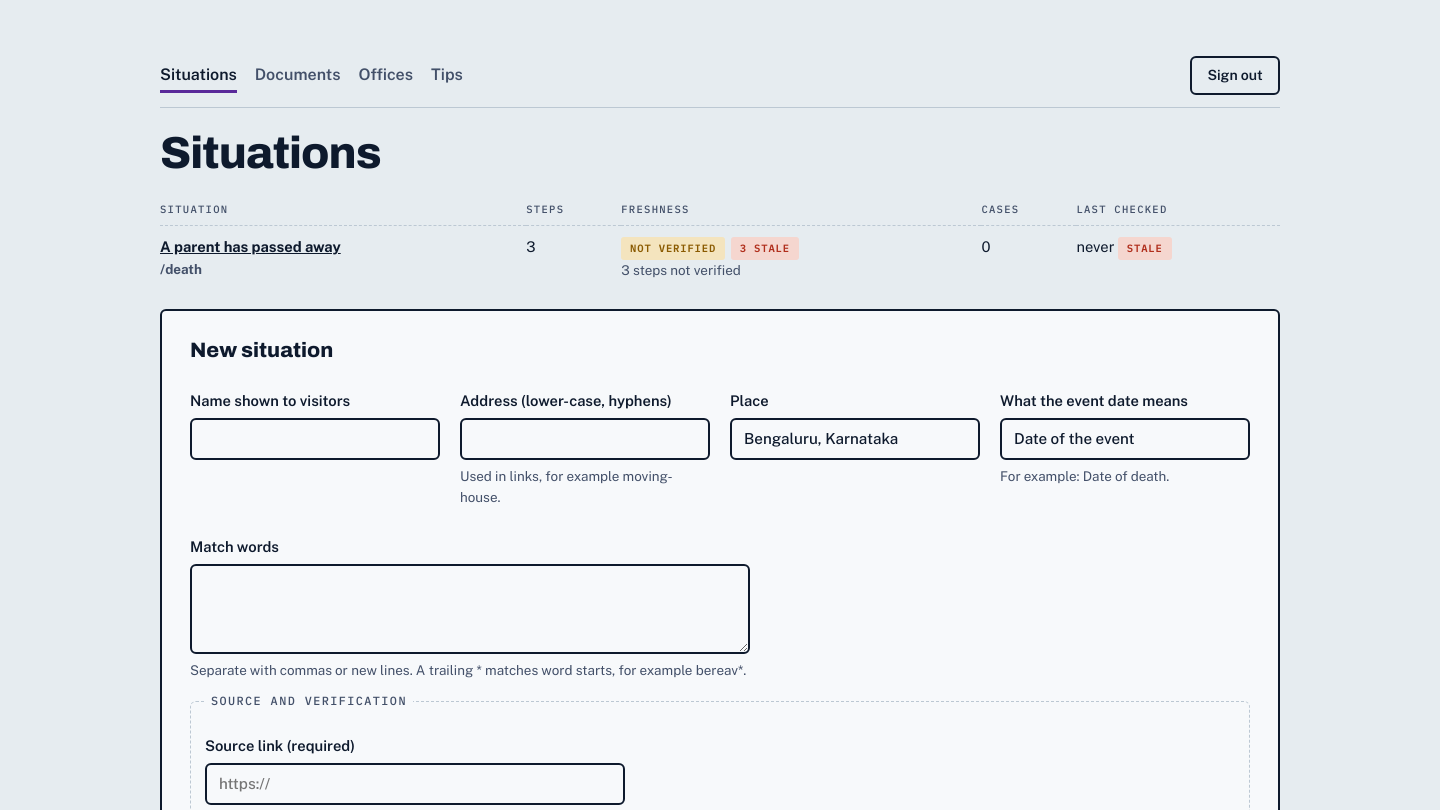
Admin: situations › shows validation problems field by field
Expected: the link "A parent has passed away" is shown, [160,238,341,255]
Type "X event" into the field labelled "Name shown to visitors" at x=315, y=439, box [190,418,440,460]
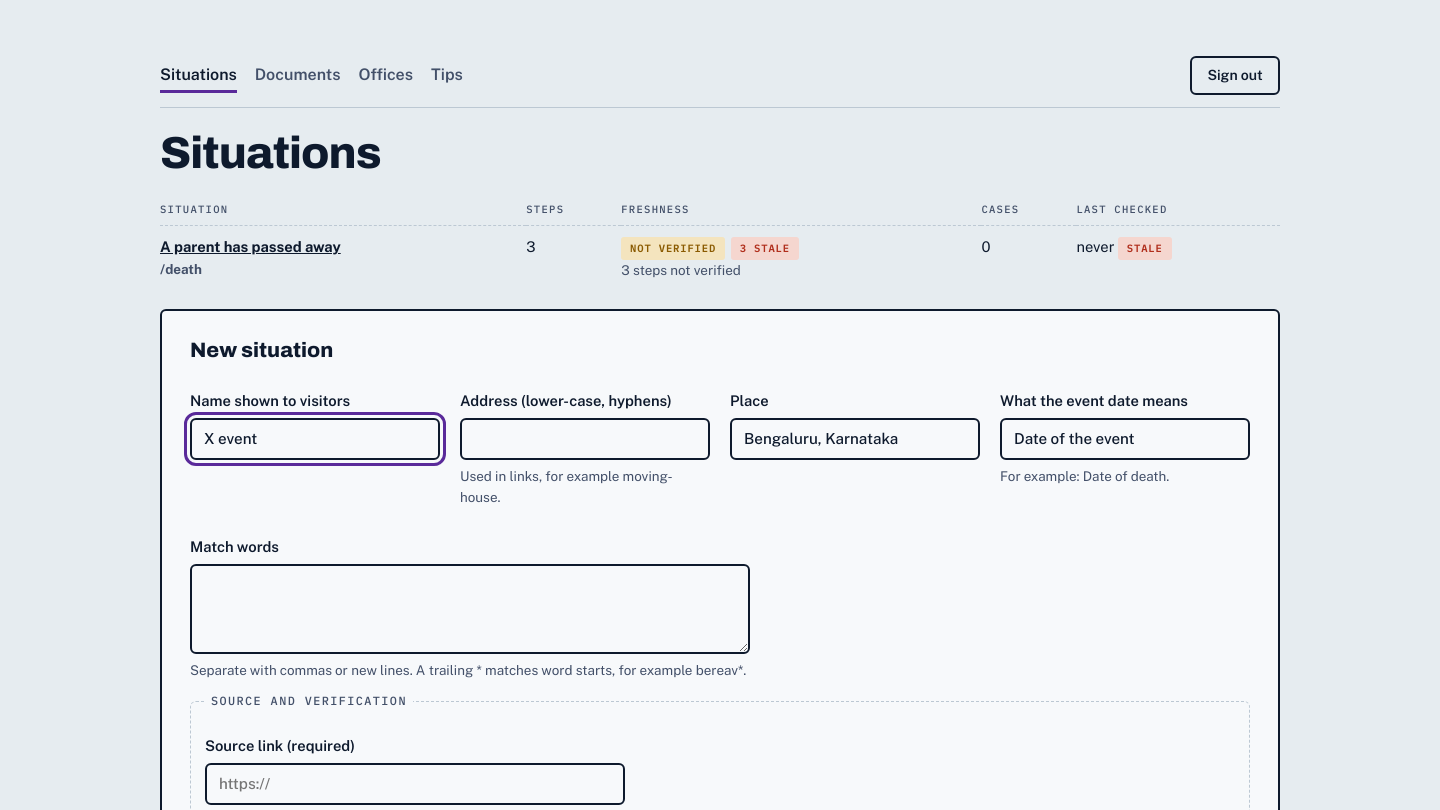
Type "x-event" into the field labelled "Address (lower-case, hyphens)" at x=585, y=439, box [460,418,710,460]
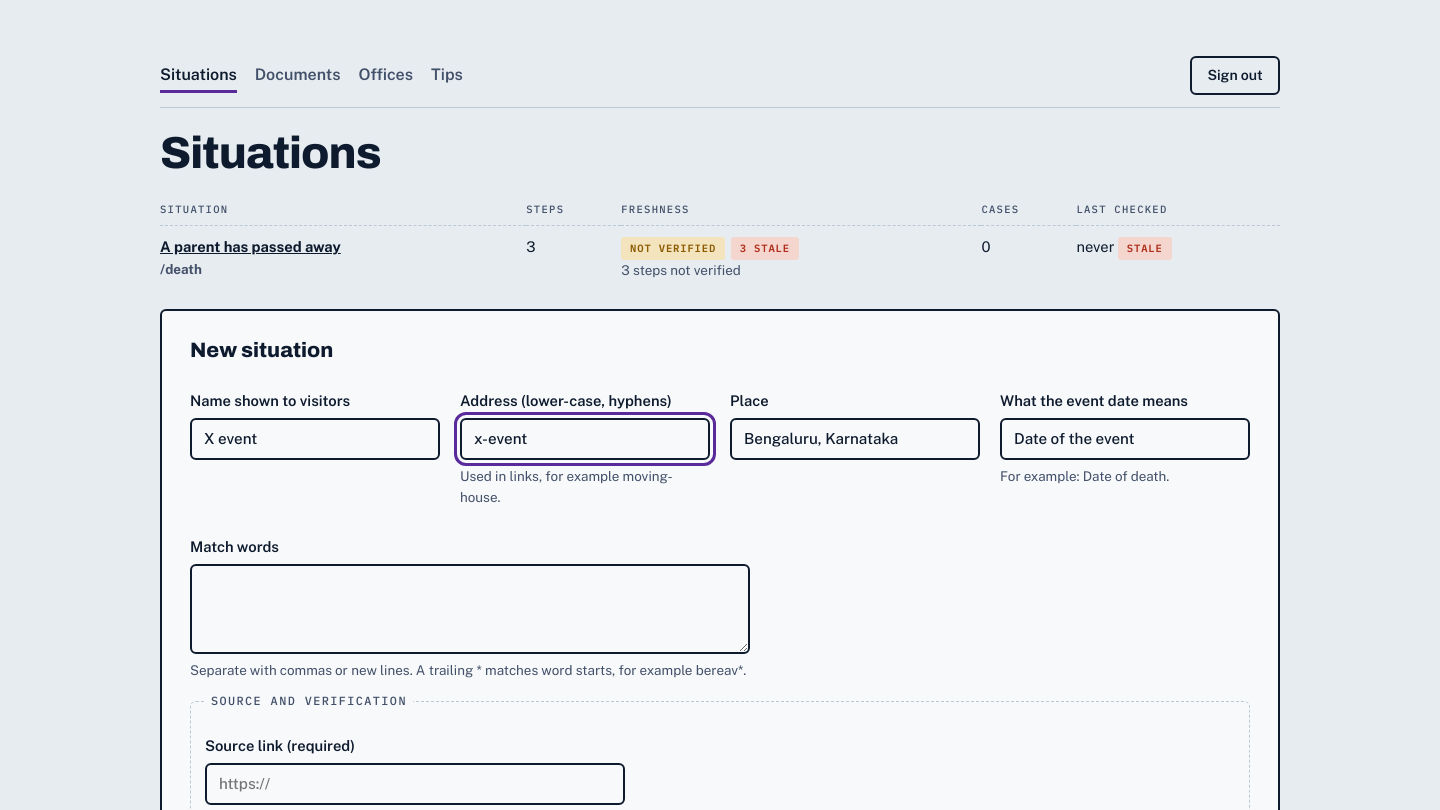
Type "https://example.gov.in/" into the field labelled "Source link (required)" at x=415, y=784, box [205,763,625,805]
(page scrolled)
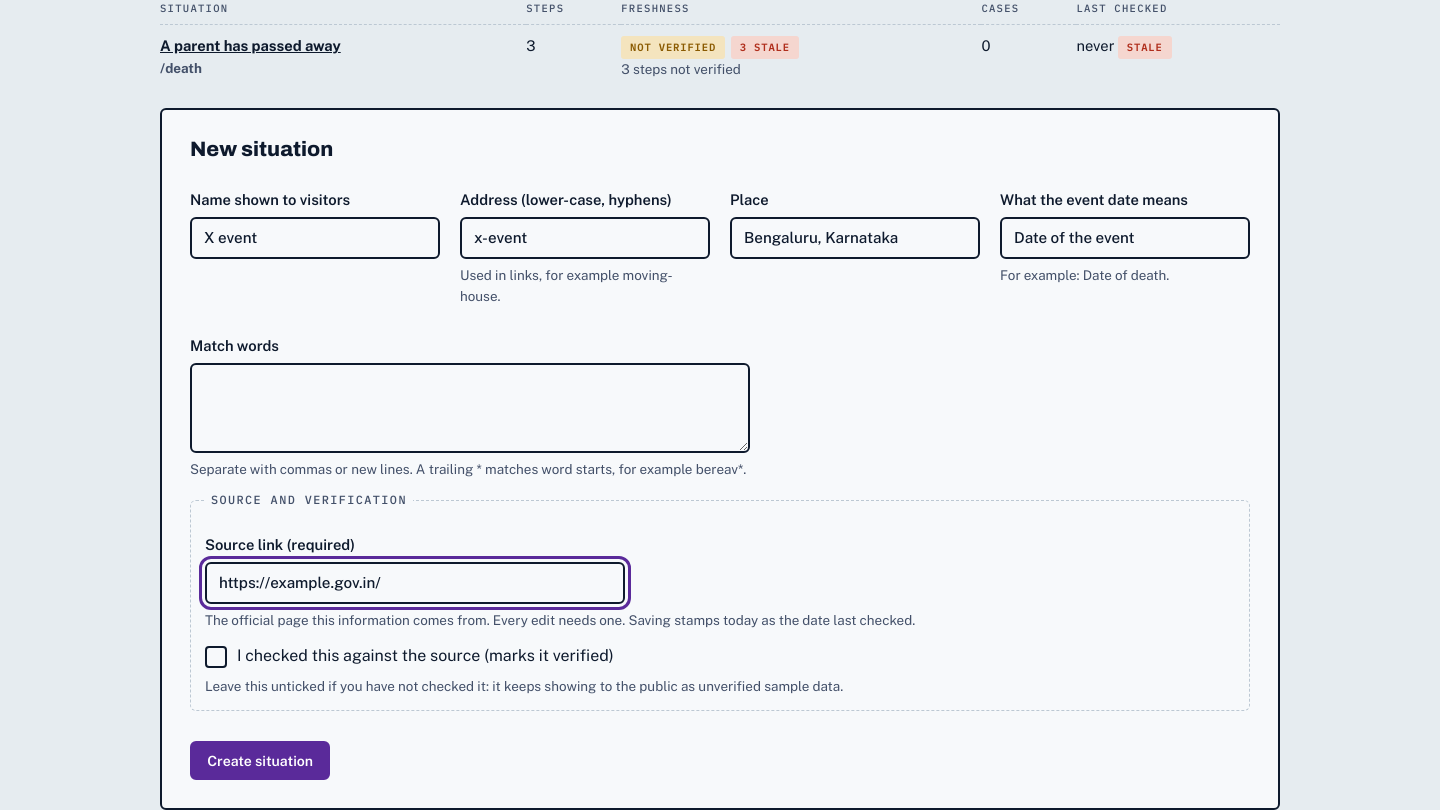
Click the button "Create situation" at x=260, y=761, box [190,742,330,780]
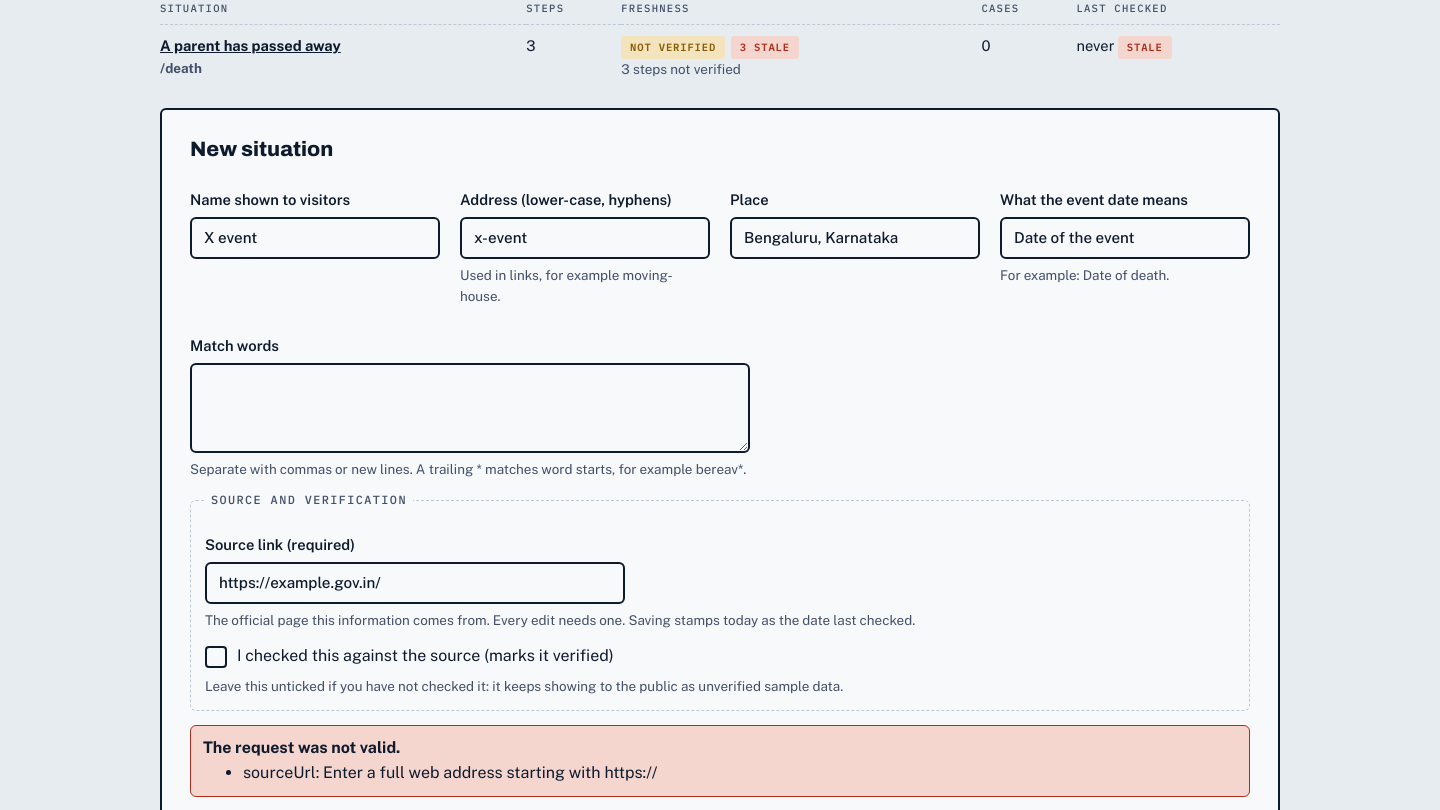
Expected: the list item "sourceUrl: Enter a full web address starting with https://" is shown, [243,763,657,782]
